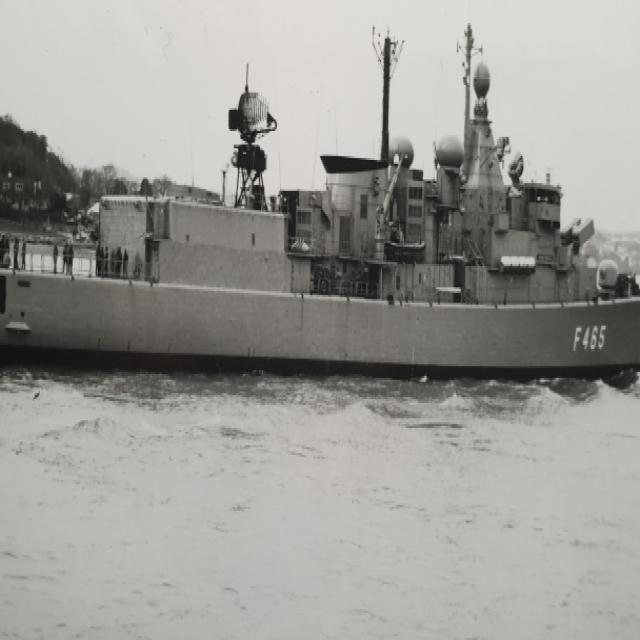Fragata: (1, 15, 640, 383)
